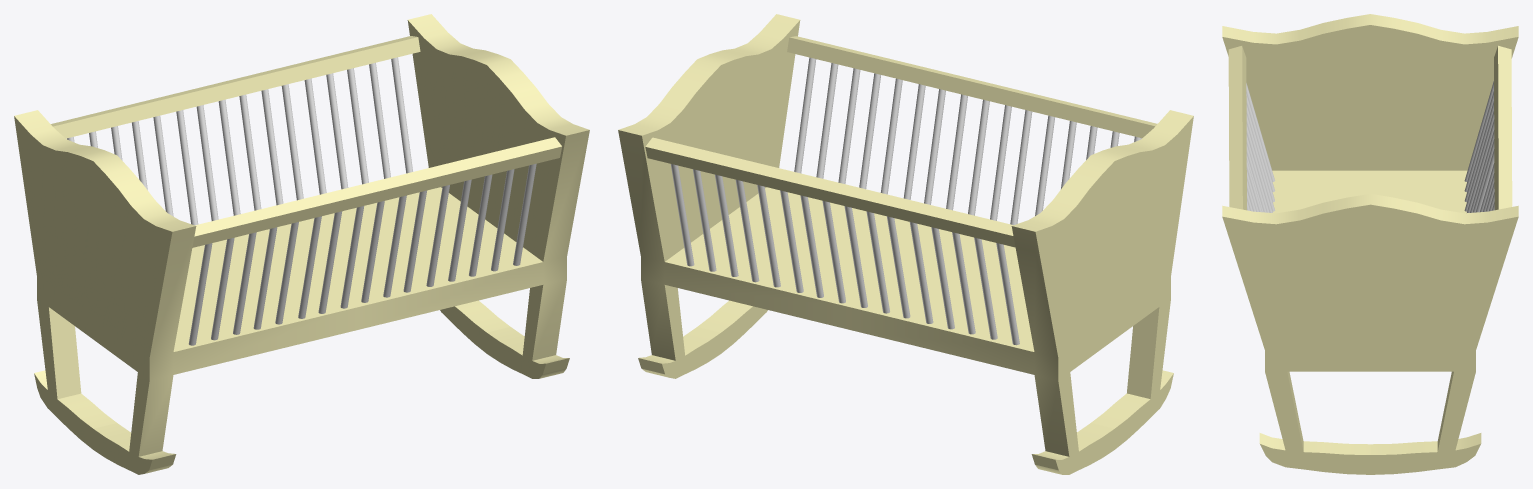
Rendered from Baby Crib Full Model.fbx.
3 views of the same model, side by side, from view 1: azimuth 30°, elevation 25°; view 2: azimuth 150°, elevation 25°; view 3: azimuth 270°, elevation 25° (orthographic). The views are drawn at different scales.
Parts seen in each view (by area): view 1: pCylinder20; view 2: pCylinder20; view 3: pCylinder20.
Part boxes in pixels (<box>): pCylinder20: <box>14,14,589,474</box>; pCylinder20: <box>618,14,1193,474</box>; pCylinder20: <box>1222,14,1518,474</box>.
Size of the model in its own units: 19.19 by 12.69 by 12.62.
